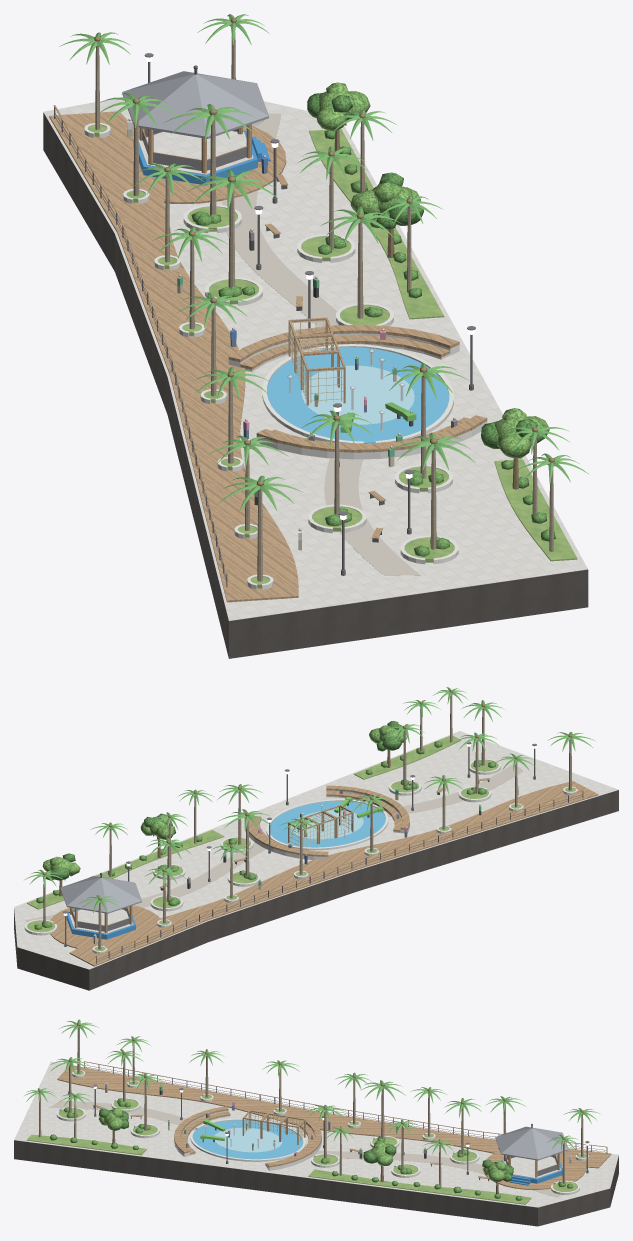
Rendered from coreto.glb.
3 renders of one model, top to bottom at view 1: azimuth 30°, elevation 25°; view 2: azimuth 150°, elevation 25°; view 3: azimuth 270°, elevation 25°, orthographic. The views are drawn at different scales.
Parts seen in each view (by area): view 1: praca, base, arvore_16, arvore_17, arvore_18, palmeira_2, palmeira_0, palmeira_6, palmeira_15, palmeira_3, palmeira_4, palmeira_5 (+12 smaller); view 2: base, praca, arvore_17, arvore_18, arvore_16, palmeira_2, palmeira_0, palmeira_4, palmeira_3, palmeira_5, palmeira_6, palmeira_15; view 3: base, praca, arvore_16, arvore_17, arvore_18, palmeira_2, palmeira_15, palmeira_0, palmeira_4, palmeira_3, palmeira_6, palmeira_5 (+6 smaller).
Boxes of the visible parts, <box> form: praca: <box>49,53,577,602</box>; base: <box>43,97,588,658</box>; arvore_16: <box>350,172,423,257</box>; arvore_17: <box>481,408,549,489</box>; arvore_18: <box>307,82,370,158</box>; palmeira_2: <box>187,169,278,287</box>; palmeira_0: <box>164,104,254,215</box>; palmeira_6: <box>389,432,475,549</box>; palmeira_15: <box>217,475,303,581</box>; palmeira_3: <box>320,206,401,318</box>; palmeira_4: <box>384,363,467,478</box>; palmeira_5: <box>302,410,374,515</box>; base: <box>14,731,618,990</box>; praca: <box>24,736,598,966</box>; arvore_17: <box>369,721,406,767</box>; arvore_18: <box>42,853,80,896</box>; arvore_16: <box>140,813,175,858</box>; palmeira_2: <box>218,809,271,875</box>; palmeira_0: <box>147,837,192,902</box>; palmeira_4: <box>382,723,424,786</box>; palmeira_3: <box>217,784,262,844</box>; palmeira_5: <box>456,732,499,793</box>; palmeira_6: <box>462,700,504,765</box>; palmeira_15: <box>547,732,594,790</box>; base: <box>14,1061,618,1226</box>; praca: <box>26,1061,611,1204</box>; arvore_16: <box>363,1141,396,1181</box>; arvore_17: <box>98,1108,128,1142</box>; arvore_18: <box>482,1159,513,1193</box>; palmeira_2: <box>362,1080,405,1139</box>; palmeira_15: <box>59,1019,98,1073</box>; palmeira_0: <box>444,1098,481,1156</box>; palmeira_4: <box>126,1073,163,1130</box>; palmeira_3: <box>306,1105,347,1158</box>; palmeira_6: <box>50,1057,89,1112</box>; palmeira_5: <box>106,1049,143,1102</box>.
Bounding box in the file's own units: 51.78 × 13.05 × 90.67.
34 materials, 10 textured.
